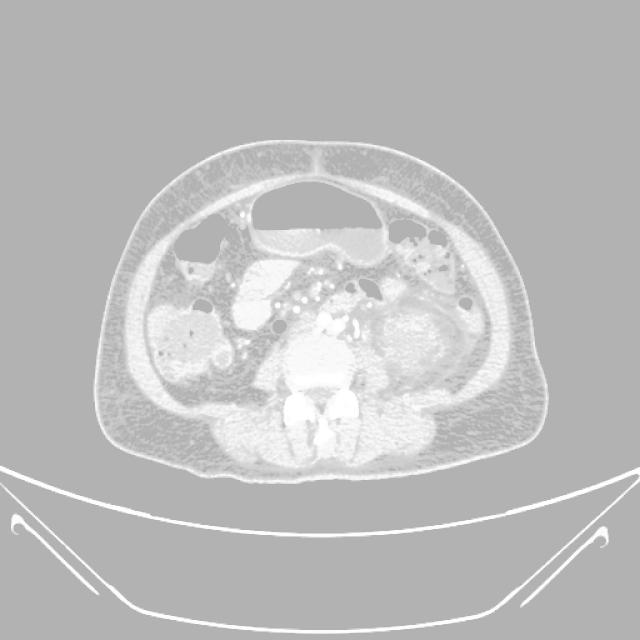TUMOR: (218, 284, 514, 414)
